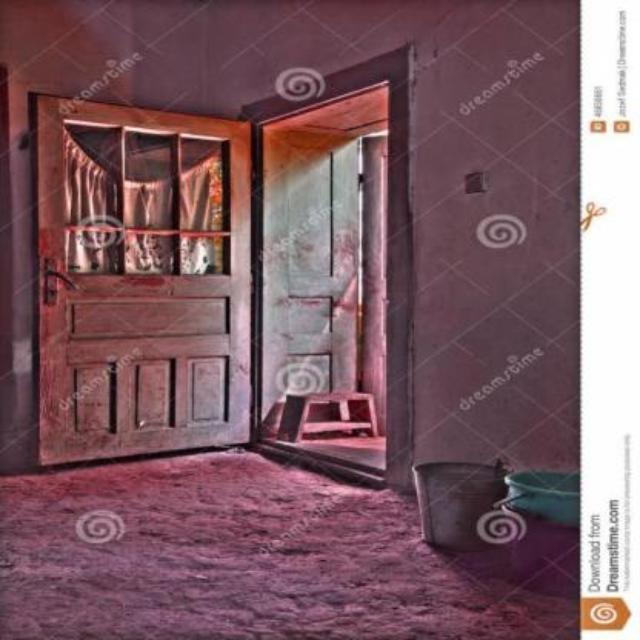door: (30, 90, 253, 467)
